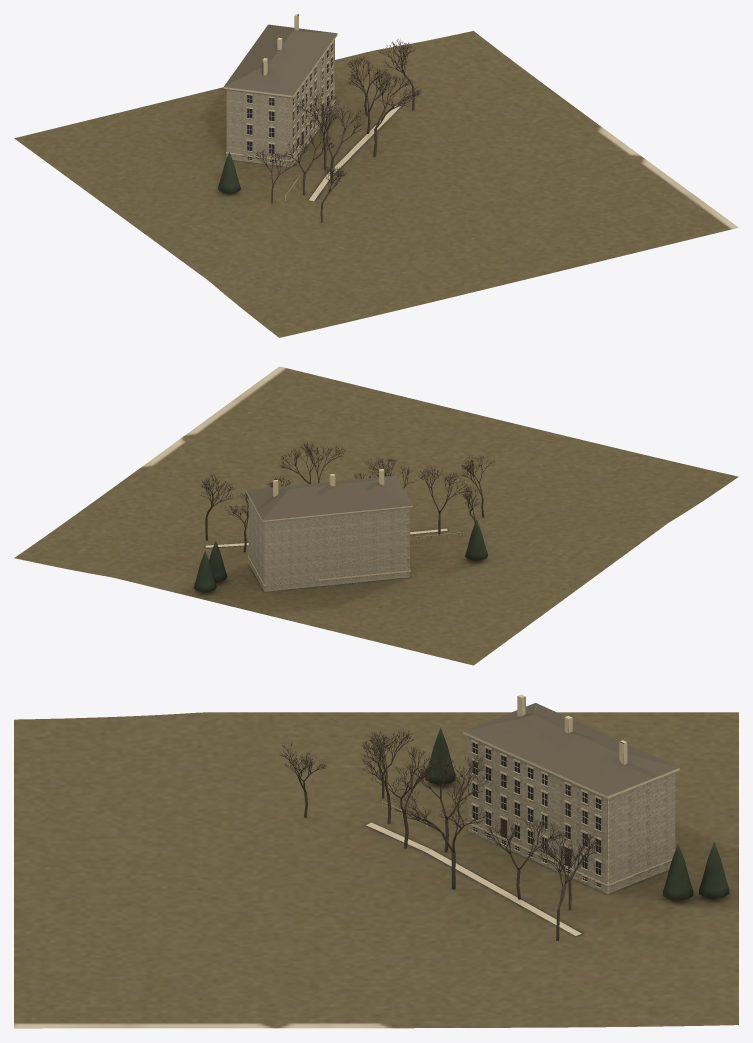
File: muir-north-hall.glb
3 renders of one model, top to bottom at view 1: azimuth 30°, elevation 25°; view 2: azimuth 150°, elevation 25°; view 3: azimuth 270°, elevation 25°, orthographic. The views are drawn at different scales.
Parts seen in each view (by area): view 1: lawn, artifact_north_hall, artifact_bare_trees, roof, windows_and_doors, boardwalk; view 2: lawn, artifact_north_hall, artifact_bare_trees, roof, cornice_bands; view 3: lawn, artifact_north_hall, artifact_bare_trees, roof, windows_and_doors, boardwalk, cornice_bands.
Part boxes in pixels (<box>): lawn: <box>14,31,738,337</box>; artifact_north_hall: <box>226,39,334,167</box>; artifact_bare_trees: <box>218,39,421,222</box>; roof: <box>224,24,337,95</box>; windows_and_doors: <box>246,41,333,163</box>; boardwalk: <box>309,105,401,201</box>; lawn: <box>14,366,738,665</box>; artifact_north_hall: <box>248,497,409,591</box>; artifact_bare_trees: <box>193,441,494,592</box>; roof: <box>246,475,412,519</box>; cornice_bands: <box>246,491,412,586</box>; lawn: <box>14,712,738,1028</box>; artifact_north_hall: <box>468,736,675,894</box>; artifact_bare_trees: <box>279,727,729,940</box>; roof: <box>463,703,679,796</box>; windows_and_doors: <box>471,740,601,888</box>; boardwalk: <box>366,822,581,935</box>; cornice_bands: <box>463,731,679,886</box>.
Size of what is drawn, in the model's own units: 100 by 21.7 by 100.
3 materials, 2 textured.
